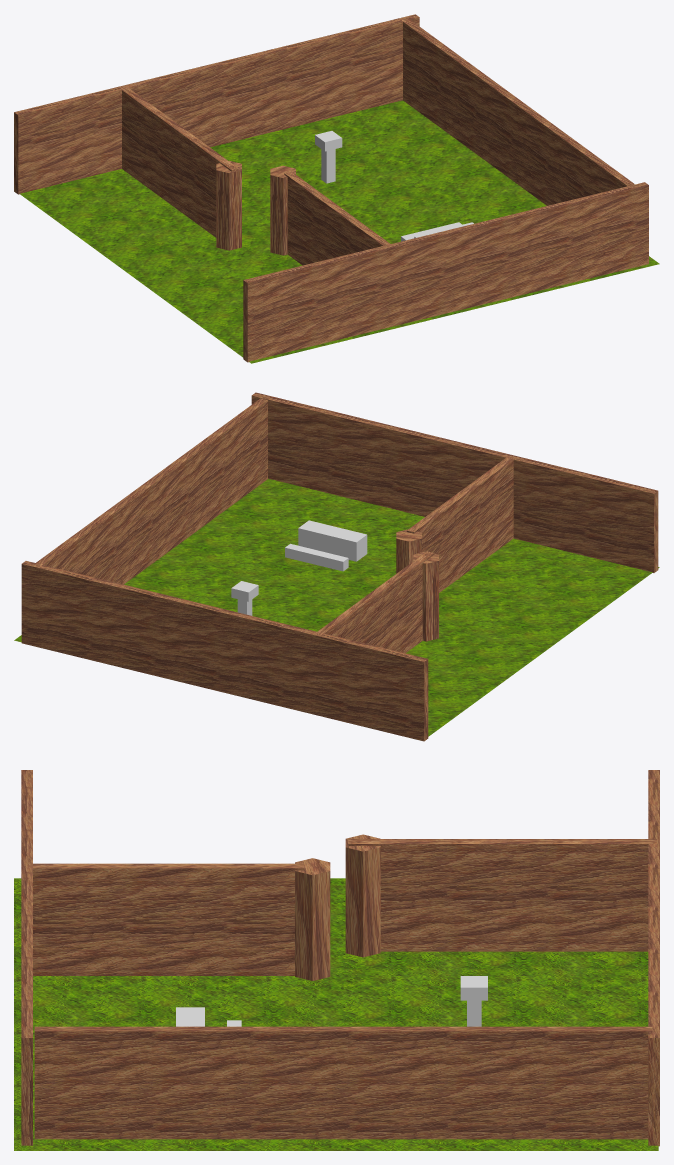
File: testlvla.glb
The picture shows the model from 3 angles, top to bottom: view 1: azimuth 30°, elevation 25°; view 2: azimuth 150°, elevation 25°; view 3: azimuth 270°, elevation 25°; orthographic projection. The views are drawn at different scales.
Parts seen in each view (by area): view 1: Cylinder.003, Plane, Cube.001; view 2: Cylinder.003, Plane, Cube.001; view 3: Cylinder.003, Plane, Cube.001.
Boxes of the visible parts, x1,y1,x2,y2 form: Cylinder.003: (14, 14, 648, 362); Plane: (20, 100, 659, 363); Cube.001: (315, 131, 473, 241); Cylinder.003: (21, 392, 658, 741); Plane: (14, 478, 659, 736); Cube.001: (231, 520, 367, 615); Cylinder.003: (21, 770, 659, 1146); Plane: (14, 878, 658, 1150); Cube.001: (176, 976, 487, 1026).
Bounding box in the file's own units: 88.7 × 19.08 × 88.63.
Materials: 2 (2 with a texture image).
